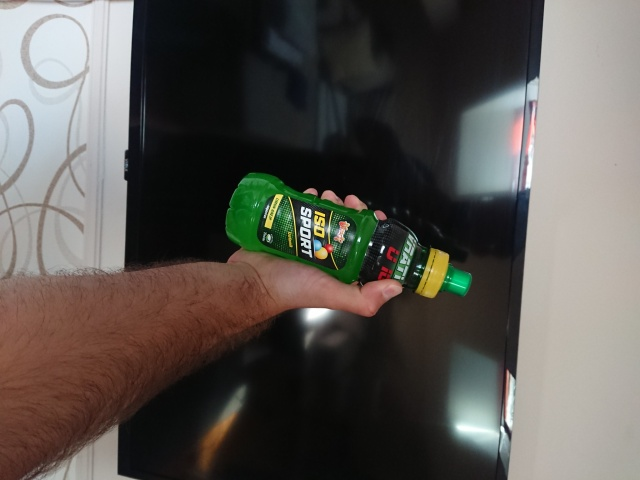Vindi Iso Sport Lemon-Grapefruit 500mL: (222, 170, 475, 302)
